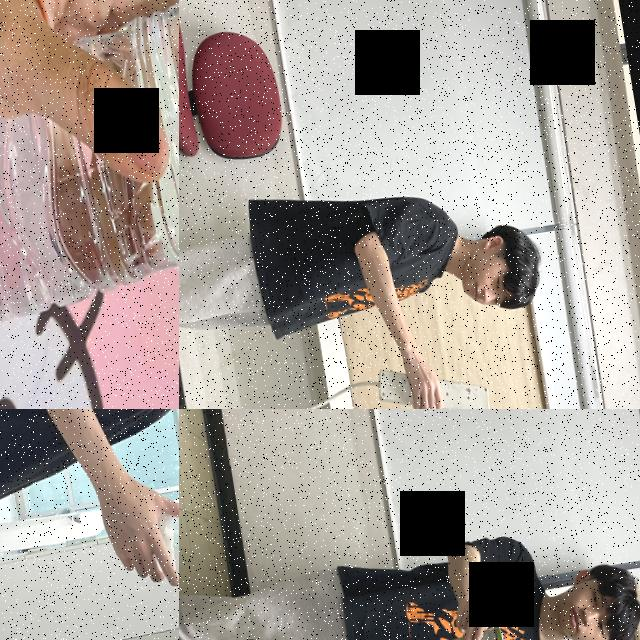bottle: (0, 0, 179, 344)
can: (435, 623, 508, 640)
cup: (142, 494, 179, 598)
